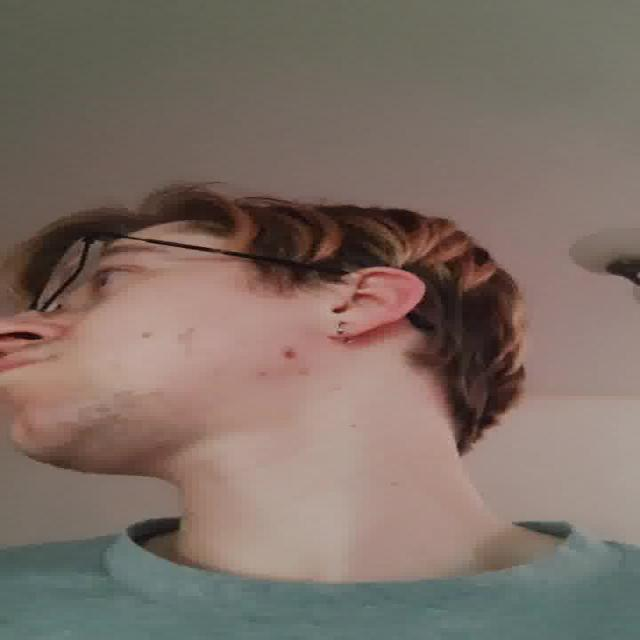earlobe: (322, 314, 368, 339)
eye: (84, 267, 147, 297)
nose: (0, 332, 31, 360)
wholeear: (322, 267, 427, 339)
